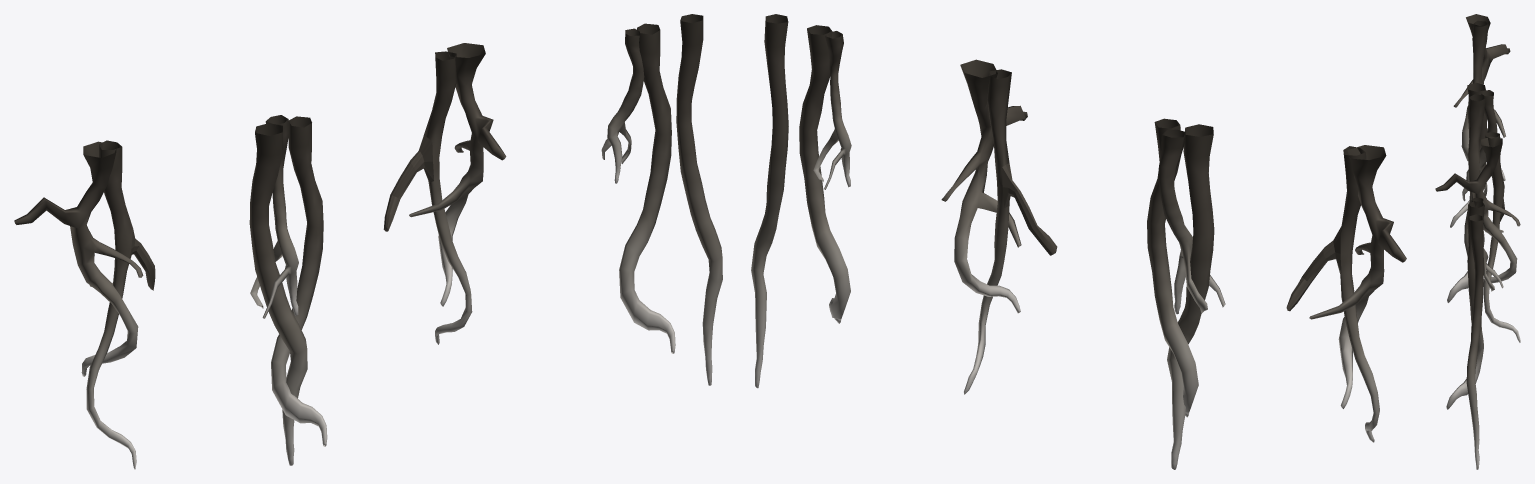
File: M_Vines_01.fbx
The picture shows the model from 3 angles, left to right: view 1: azimuth 30°, elevation 25°; view 2: azimuth 150°, elevation 25°; view 3: azimuth 270°, elevation 25°; orthographic projection. The views are drawn at different scales.
Visible parts, largest first — view 1: M_Root_VinesEmpty_03, M_Root_VinesEmpty_01, M_Root_VinesEmpty_04, M_Root_VinesEmpty_02; view 2: M_Root_VinesEmpty_03, M_Root_VinesEmpty_01, M_Root_VinesEmpty_02, M_Root_VinesEmpty_04; view 3: M_Root_VinesEmpty_01, M_Root_VinesEmpty_02, M_Root_VinesEmpty_03, M_Root_VinesEmpty_04.
Part boxes in pixels (<box>): M_Root_VinesEmpty_03: <box>249,115,327,465</box>; M_Root_VinesEmpty_01: <box>601,14,722,385</box>; M_Root_VinesEmpty_04: <box>14,140,155,469</box>; M_Root_VinesEmpty_02: <box>383,43,506,344</box>; M_Root_VinesEmpty_03: <box>1147,118,1225,469</box>; M_Root_VinesEmpty_01: <box>751,14,851,388</box>; M_Root_VinesEmpty_02: <box>941,59,1057,394</box>; M_Root_VinesEmpty_04: <box>1286,145,1406,442</box>; M_Root_VinesEmpty_01: <box>1446,197,1503,469</box>; M_Root_VinesEmpty_02: <box>1435,132,1520,342</box>; M_Root_VinesEmpty_03: <box>1447,82,1497,302</box>; M_Root_VinesEmpty_04: <box>1450,14,1510,227</box>.
Size of the model in its own units: 787 by 424 by 130.
